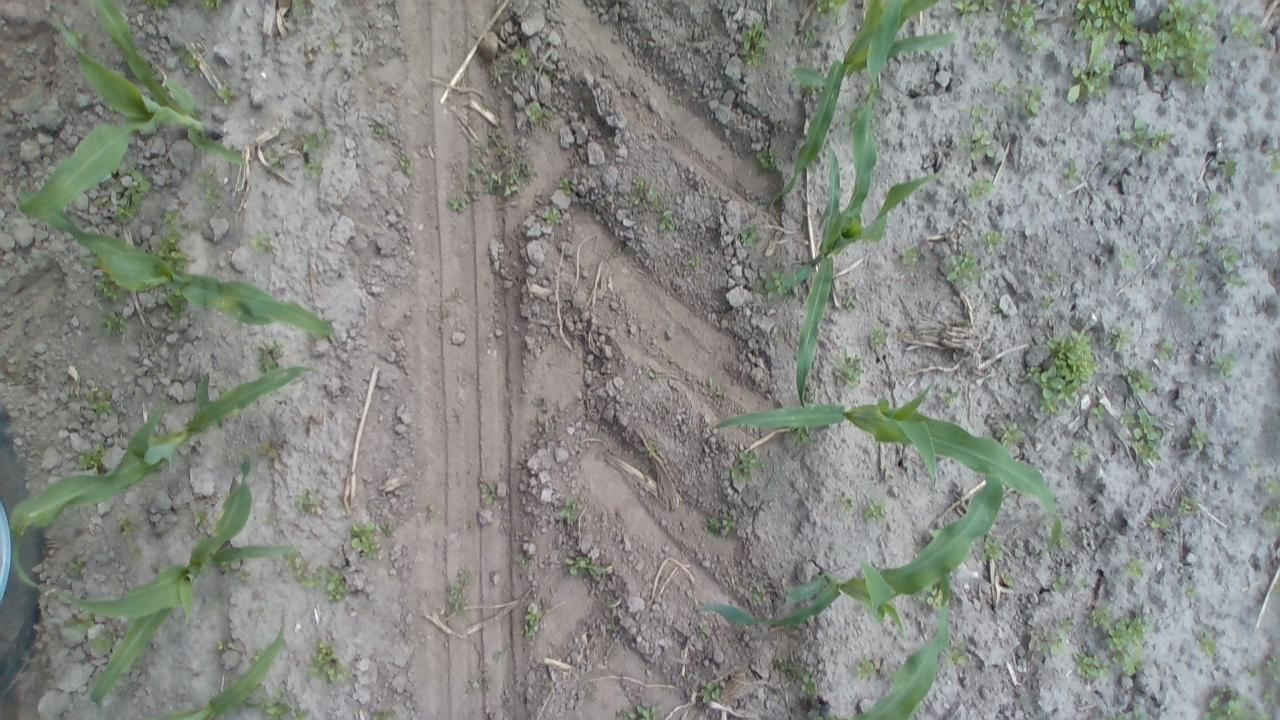Maize: (45, 441, 308, 713), (8, 366, 316, 586), (778, 0, 941, 415), (711, 386, 1065, 558), (704, 444, 1014, 632), (22, 0, 250, 214), (34, 187, 336, 338), (766, 0, 952, 207), (816, 576, 955, 720), (133, 601, 289, 718)
Weeds: (1140, 0, 1220, 87), (1027, 330, 1097, 412), (464, 122, 530, 200), (1067, 40, 1115, 105), (1104, 614, 1150, 676), (1074, 1, 1136, 42), (1188, 188, 1222, 253), (770, 651, 818, 697), (112, 166, 150, 224), (1204, 687, 1270, 718), (1126, 408, 1162, 464), (1120, 120, 1176, 154), (308, 638, 349, 682), (1011, 1, 1044, 55), (262, 689, 308, 719), (1174, 263, 1204, 308), (152, 231, 192, 263), (944, 250, 980, 285), (1036, 621, 1072, 655), (1230, 15, 1265, 48), (631, 176, 662, 212), (1251, 500, 1280, 538), (743, 23, 769, 64), (448, 570, 470, 618), (730, 450, 761, 483), (522, 98, 556, 128), (349, 522, 379, 556), (700, 371, 731, 403), (1074, 652, 1110, 678), (836, 353, 864, 386), (812, 0, 851, 23), (801, 697, 840, 720), (60, 609, 97, 633), (599, 595, 621, 635), (1128, 364, 1158, 393), (758, 268, 788, 296), (1210, 350, 1240, 378), (255, 434, 283, 464), (1106, 703, 1154, 720), (612, 703, 660, 720), (1020, 84, 1044, 118), (84, 388, 112, 417), (831, 484, 854, 518), (325, 568, 348, 602), (962, 176, 992, 202), (464, 669, 492, 696), (90, 625, 118, 652), (1107, 323, 1134, 350), (298, 130, 328, 154), (75, 445, 105, 469), (192, 160, 218, 187), (522, 604, 542, 638), (998, 420, 1024, 446), (968, 128, 992, 156), (258, 346, 282, 374), (478, 478, 500, 508), (62, 553, 88, 578), (566, 556, 598, 576), (292, 560, 314, 589), (864, 498, 888, 524), (944, 644, 970, 668), (984, 226, 1007, 253), (756, 146, 779, 173), (989, 72, 1011, 100), (1263, 650, 1280, 686), (1179, 579, 1205, 602), (840, 286, 863, 312), (708, 513, 734, 536), (1188, 423, 1210, 450), (982, 537, 1006, 561), (298, 490, 322, 514), (1047, 569, 1070, 594), (967, 98, 992, 121), (854, 656, 876, 682), (1156, 334, 1178, 360), (952, 0, 982, 19), (560, 496, 580, 524), (490, 640, 513, 664), (1086, 604, 1110, 627), (265, 144, 285, 171), (1218, 154, 1240, 178), (102, 312, 126, 334), (302, 156, 324, 180), (973, 36, 997, 58), (1218, 247, 1242, 269), (692, 615, 712, 641), (290, 0, 316, 20), (868, 325, 888, 350), (1119, 246, 1138, 272), (1196, 632, 1218, 654), (642, 439, 665, 460), (579, 680, 599, 704), (1147, 512, 1171, 532), (610, 240, 635, 259), (232, 565, 254, 586), (770, 321, 789, 345), (700, 681, 721, 702), (182, 49, 202, 71), (1034, 294, 1058, 312), (127, 540, 143, 567), (250, 232, 270, 253), (541, 205, 562, 225), (96, 278, 117, 298), (117, 516, 137, 537), (92, 190, 114, 209), (1122, 557, 1144, 576), (800, 21, 816, 47), (423, 502, 439, 528), (924, 584, 942, 607), (665, 92, 684, 113), (512, 46, 530, 68), (999, 567, 1016, 590), (528, 392, 548, 411), (1242, 458, 1263, 476), (190, 507, 208, 528), (1178, 495, 1194, 518), (1263, 149, 1276, 177), (323, 35, 342, 54), (791, 428, 810, 447), (1045, 266, 1063, 286), (161, 204, 179, 224), (202, 184, 220, 204), (448, 194, 468, 212), (739, 226, 758, 244), (376, 521, 394, 540), (951, 130, 968, 150), (557, 175, 574, 195), (540, 674, 556, 695), (1222, 274, 1246, 288), (144, 0, 174, 11), (372, 707, 397, 720), (1074, 575, 1092, 593), (659, 210, 675, 230), (1160, 255, 1180, 271), (218, 84, 234, 104), (988, 296, 1004, 315), (940, 388, 959, 404), (687, 251, 702, 271), (1262, 686, 1280, 702), (1072, 444, 1090, 460), (900, 246, 918, 262), (1118, 412, 1138, 426), (729, 574, 743, 594), (398, 152, 412, 172), (1058, 534, 1075, 550), (372, 122, 388, 139), (1245, 662, 1260, 680), (1104, 136, 1119, 154), (1255, 218, 1271, 234), (544, 68, 560, 84), (1090, 403, 1106, 419), (477, 97, 492, 114), (260, 512, 274, 530), (646, 364, 659, 383), (596, 564, 612, 579), (248, 649, 264, 664), (1063, 165, 1079, 180), (514, 550, 528, 567), (70, 29, 88, 42), (200, 0, 223, 10), (1016, 688, 1030, 704), (750, 590, 766, 604), (284, 552, 296, 570), (950, 315, 971, 325), (216, 638, 228, 655), (1263, 477, 1276, 492), (442, 307, 452, 320), (1054, 151, 1064, 163), (184, 220, 196, 230)
